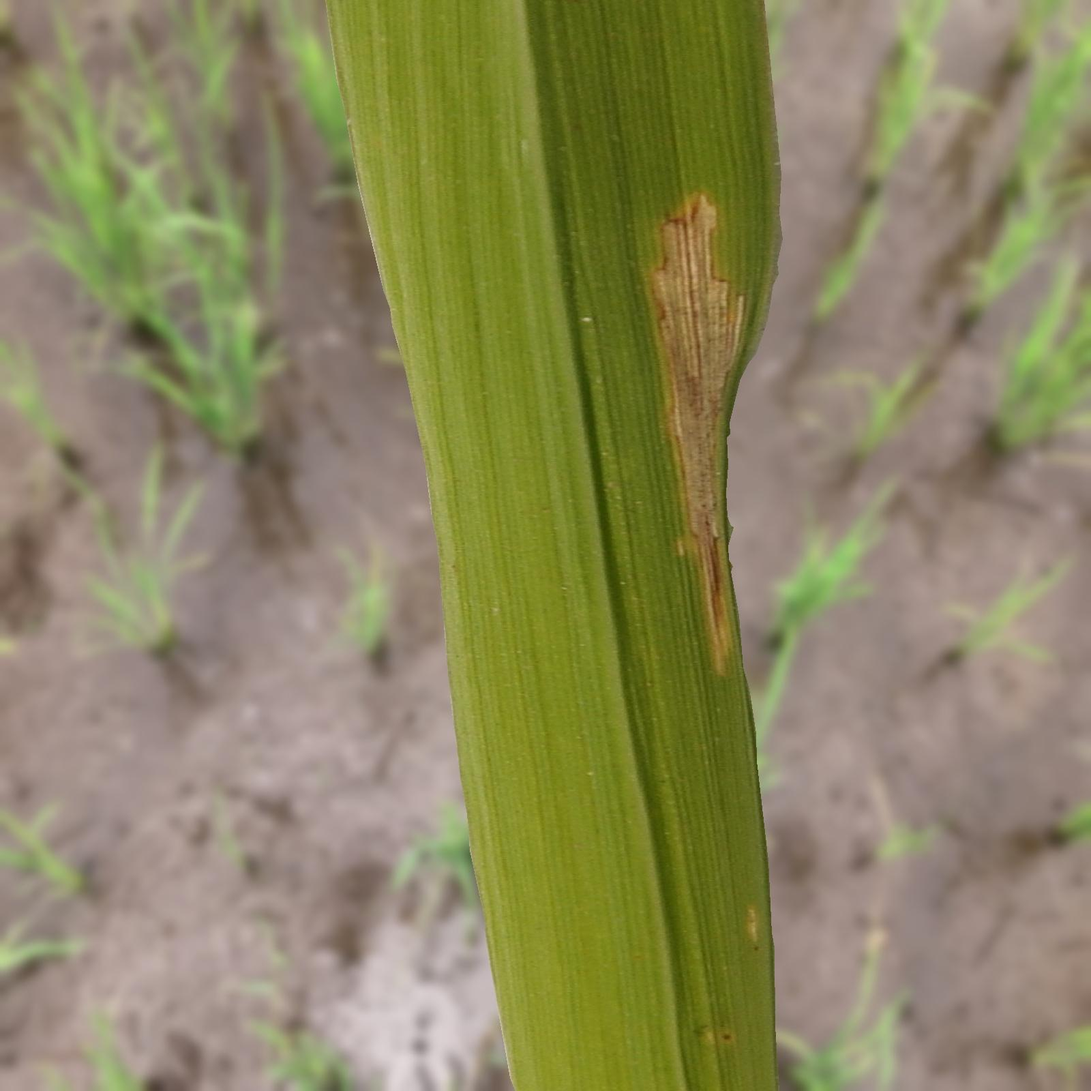BLS: (651, 193, 746, 672)
LEAF: (325, 0, 782, 1090)
